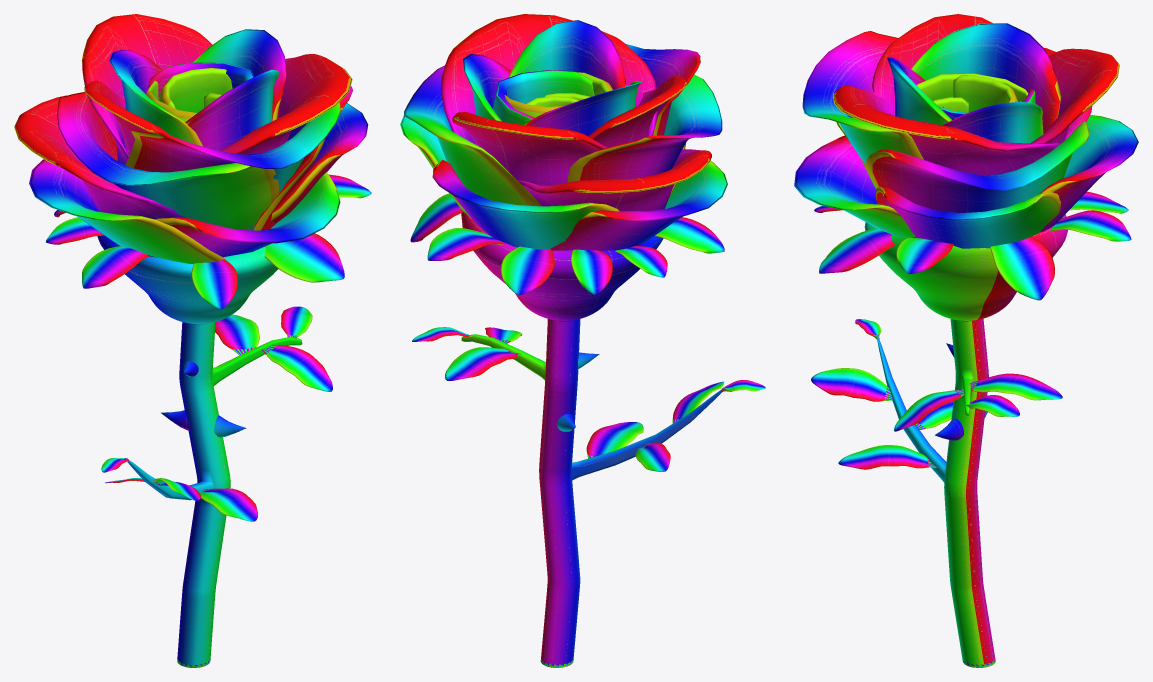
File: ruzica_sa_materijalom.fbx
The picture shows the model from 3 angles, left to right: view 1: azimuth 30°, elevation 25°; view 2: azimuth 150°, elevation 25°; view 3: azimuth 270°, elevation 25°; orthographic projection.
Parts seen in each view (by area): view 1: polySurface99, polySurface84, polySurface81, polySurface70, polySurface83, polySurface97, polySurface82, polySurface85, polySurface71, polySurface78, polySurface69, polySurface79 (+14 smaller); view 2: polySurface99, polySurface82, polySurface84, polySurface81, polySurface70, polySurface87, polySurface86, polySurface97, polySurface85, polySurface78, polySurface73, polySurface79 (+14 smaller); view 3: polySurface99, polySurface86, polySurface79, polySurface97, polySurface82, polySurface83, polySurface72, polySurface71, polySurface87, polySurface81, polySurface80, polySurface69 (+14 smaller).
Part boxes in pixels (bbox=[...]): polySurface99: bbox=[127, 322, 302, 667]; polySurface84: bbox=[57, 92, 278, 230]; polySurface81: bbox=[81, 14, 212, 164]; polySurface70: bbox=[29, 159, 225, 263]; polySurface83: bbox=[125, 102, 340, 230]; polySurface97: bbox=[97, 235, 277, 324]; polySurface82: bbox=[220, 54, 352, 154]; polySurface85: bbox=[14, 95, 187, 257]; polySurface71: bbox=[155, 172, 340, 257]; polySurface78: bbox=[185, 69, 278, 150]; polySurface69: bbox=[193, 29, 286, 121]; polySurface79: bbox=[109, 49, 202, 146]; polySurface99: bbox=[461, 319, 722, 667]; polySurface82: bbox=[441, 14, 657, 143]; polySurface84: bbox=[567, 74, 722, 182]; polySurface81: bbox=[452, 111, 607, 185]; polySurface70: bbox=[550, 161, 727, 250]; polySurface87: bbox=[432, 159, 619, 249]; polySurface86: bbox=[404, 65, 541, 206]; polySurface97: bbox=[461, 212, 663, 321]; polySurface85: bbox=[517, 149, 711, 211]; polySurface78: bbox=[508, 20, 625, 89]; polySurface73: bbox=[493, 70, 594, 124]; polySurface79: bbox=[524, 81, 643, 135]; polySurface99: bbox=[877, 318, 995, 667]; polySurface86: bbox=[866, 121, 1089, 237]; polySurface79: bbox=[911, 23, 1061, 133]; polySurface97: bbox=[864, 214, 1067, 321]; polySurface82: bbox=[833, 85, 1060, 174]; polySurface83: bbox=[802, 31, 923, 164]; polySurface72: bbox=[875, 186, 1060, 248]; polySurface71: bbox=[794, 135, 915, 237]; polySurface87: bbox=[1039, 115, 1138, 232]; polySurface81: bbox=[1030, 48, 1119, 143]; polySurface80: bbox=[872, 14, 992, 107]; polySurface69: bbox=[943, 101, 1043, 143].
Size of the model in its own units: 0.7873 by 1.48 by 0.7567.
1 material, 1 textured.
